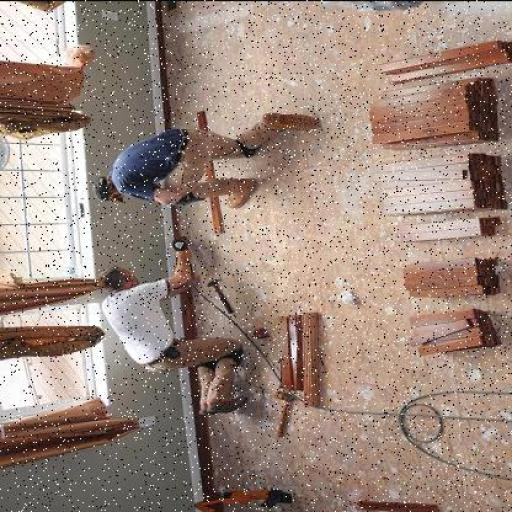person: (90, 102, 336, 233), (97, 240, 267, 426)
safety_shoe: (264, 108, 324, 134), (227, 176, 258, 208), (205, 394, 250, 413)
